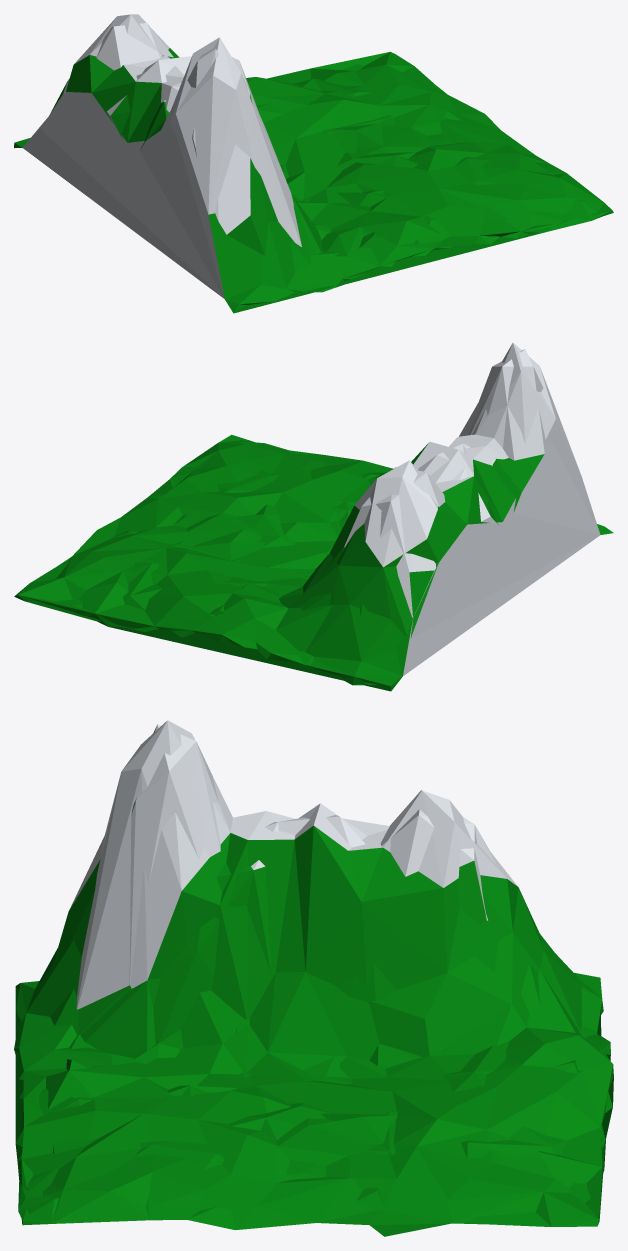
Rendered from Landscape.fbx.
3 renders of one model, top to bottom at view 1: azimuth 30°, elevation 25°; view 2: azimuth 150°, elevation 25°; view 3: azimuth 270°, elevation 25°, orthographic. The views are drawn at different scales.
Parts seen in each view (by area): view 1: Plane; view 2: Plane; view 3: Plane.
Part boxes in pixels (x1,y1,x2,y2): Plane: [14, 14, 613, 313]; Plane: [14, 343, 613, 691]; Plane: [14, 720, 613, 1236].
Bounding box in the file's own units: 409 × 226 × 415.
